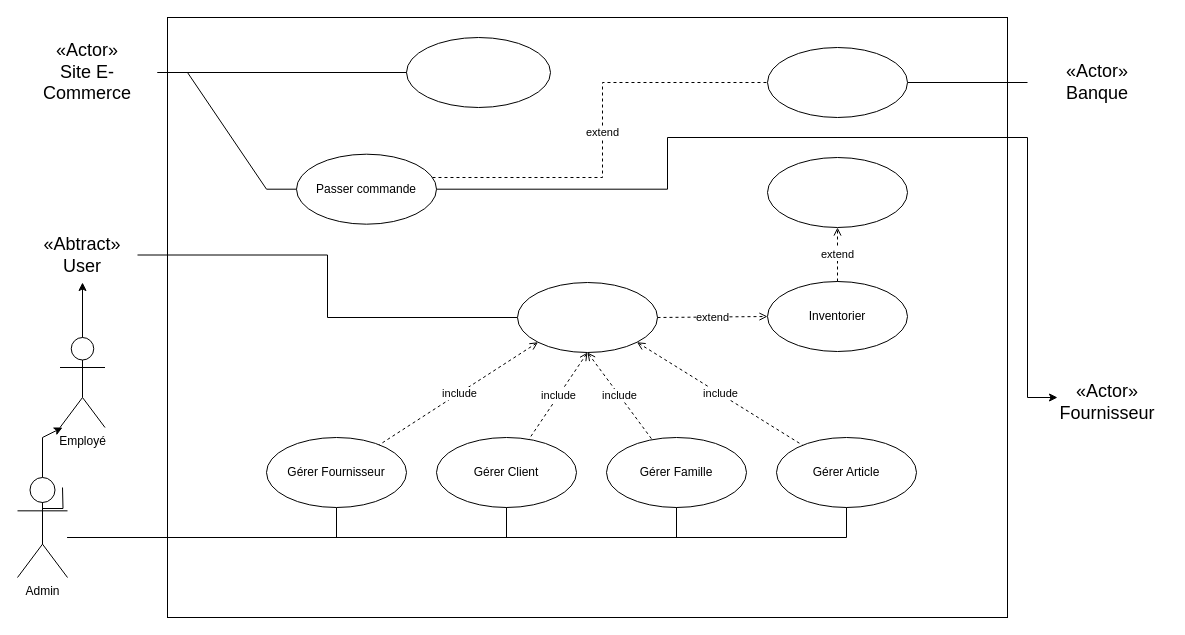
The diagram is 1185 pixels wide and 635 high, and some of its shapes have lost their labels. Here are the shapes that lost their labels. From the top down, the centre of each, then its label:
At (x=478, y=72): "Modifier le stock".
At (x=837, y=82): "Payer".
At (x=837, y=192): "Régulariser".
At (x=587, y=317): "Se connecter".
